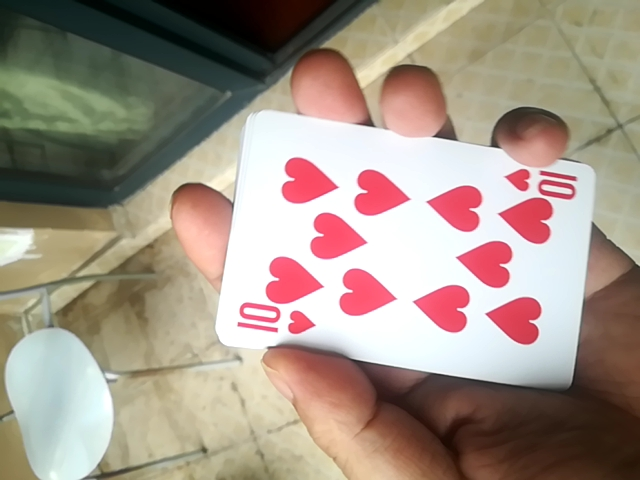hx 10: (212, 114, 595, 394)
